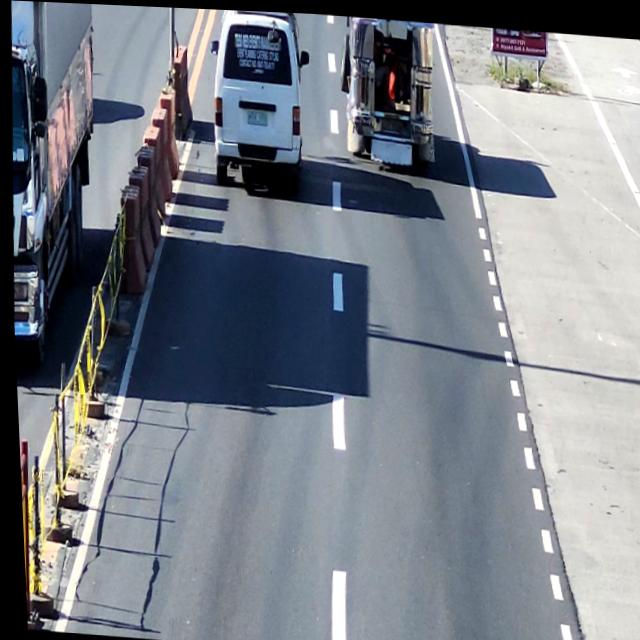Car: (205, 7, 306, 195)
Jeep: (334, 12, 439, 173)
License-Plate: (243, 107, 269, 127), (378, 113, 403, 132)
Truck: (0, 0, 102, 370)
